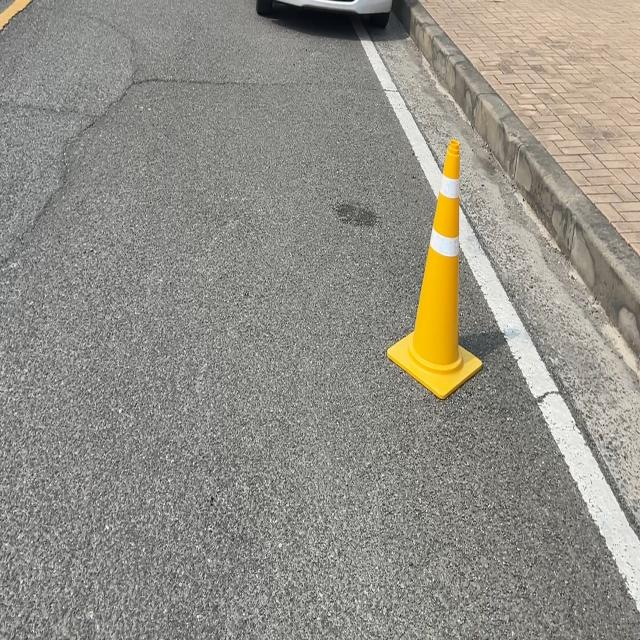y_rub: (388, 139, 483, 398)
